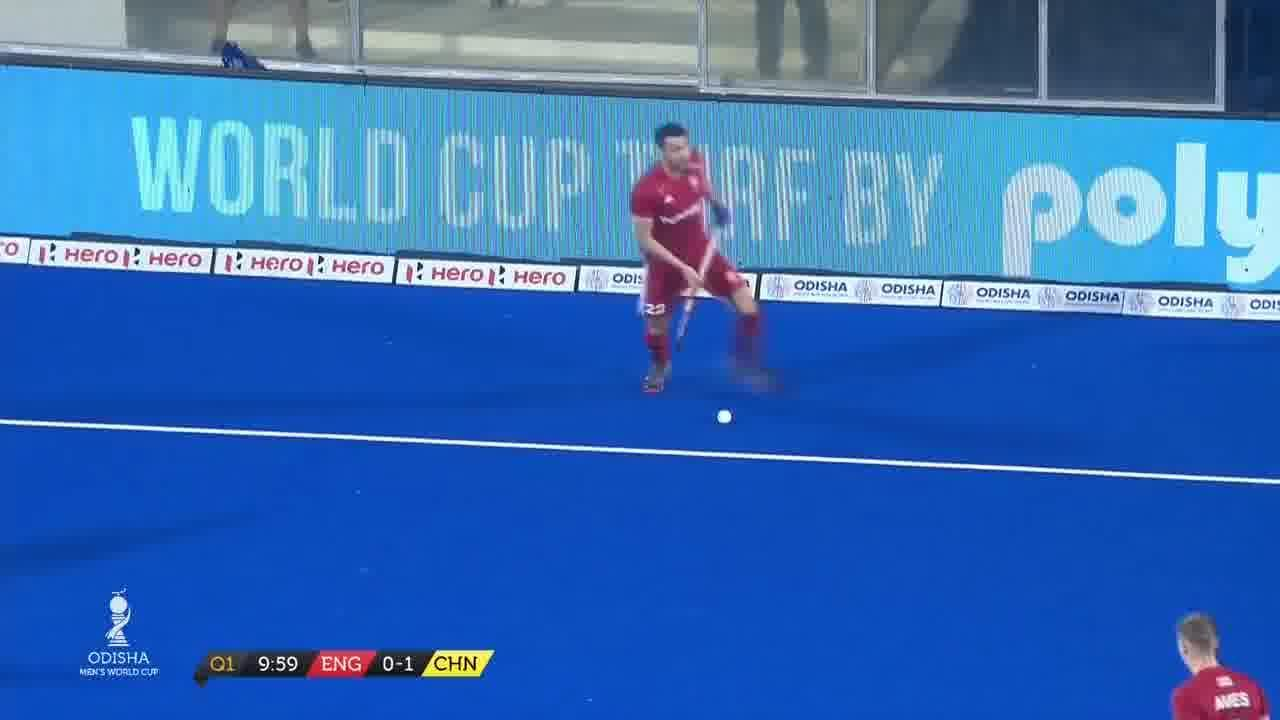ball: (710, 405, 736, 430)
